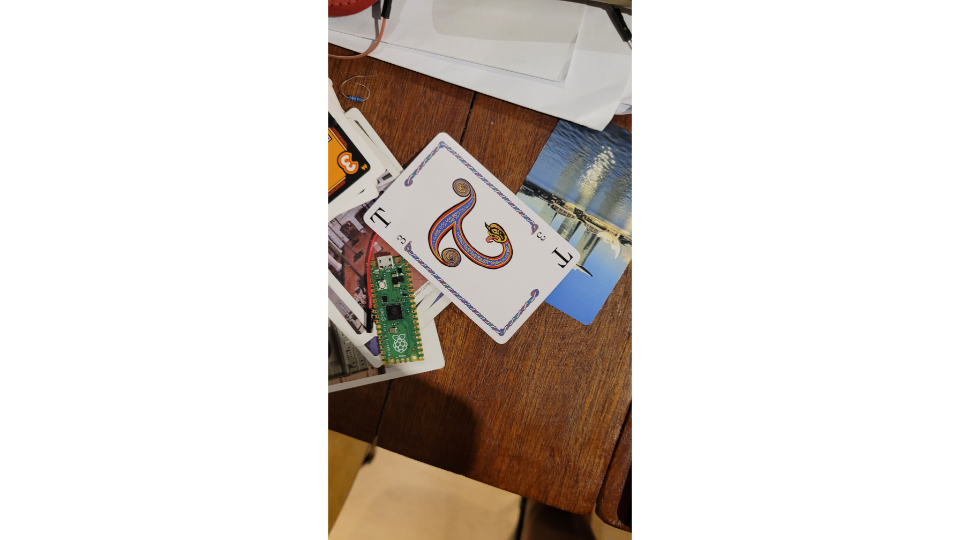T: (360, 127, 586, 345)
